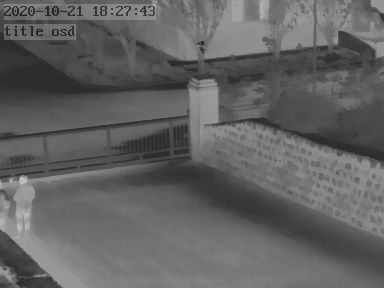person: (14, 173, 36, 236), (1, 176, 16, 234)
